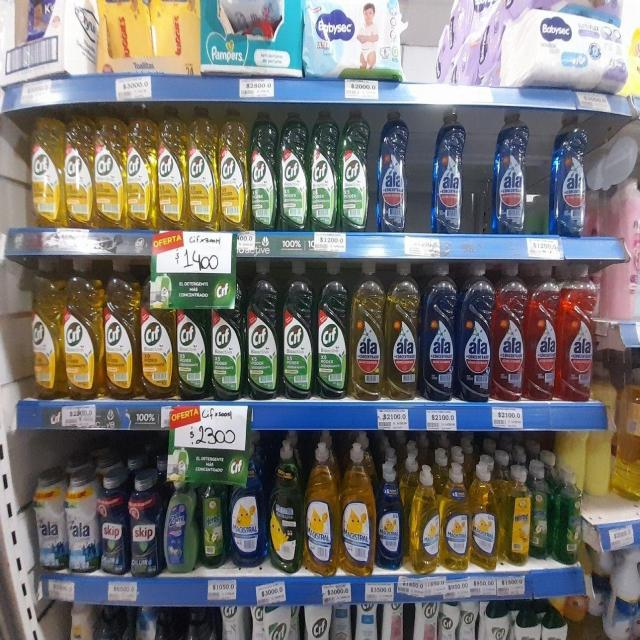ala_conc_amarillo: (350, 258, 384, 401), (385, 260, 419, 400)
ala_conc_azul: (421, 262, 456, 402), (458, 262, 492, 403), (550, 114, 587, 237), (492, 109, 528, 235), (432, 106, 466, 235), (376, 110, 409, 233)
ala_conc_rojo: (559, 266, 595, 402), (493, 262, 525, 402), (526, 264, 558, 402)
cif_conc_bot_amarilla: (64, 258, 102, 400), (29, 258, 63, 401), (104, 260, 139, 398), (141, 272, 175, 398), (29, 116, 62, 229), (94, 115, 125, 230), (126, 112, 156, 230), (188, 114, 218, 231), (219, 114, 248, 231), (64, 116, 93, 229), (158, 113, 186, 230)
cif_conc_botella_verde: (246, 258, 280, 399), (282, 258, 314, 399), (316, 259, 348, 399), (211, 266, 244, 400), (339, 110, 370, 232), (278, 112, 308, 232), (309, 112, 338, 232), (177, 302, 210, 400), (250, 113, 277, 232)
drive: (98, 0, 148, 65)
magistral_con_amarillo: (340, 442, 375, 576), (304, 440, 338, 576), (410, 464, 440, 574), (440, 461, 469, 571), (470, 460, 499, 570)
magistral_con_azul: (229, 447, 266, 568), (376, 459, 405, 571)
zorro: (163, 478, 197, 574)
